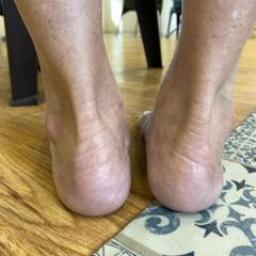Back View -Both Feet-: (16, 29, 254, 230)
